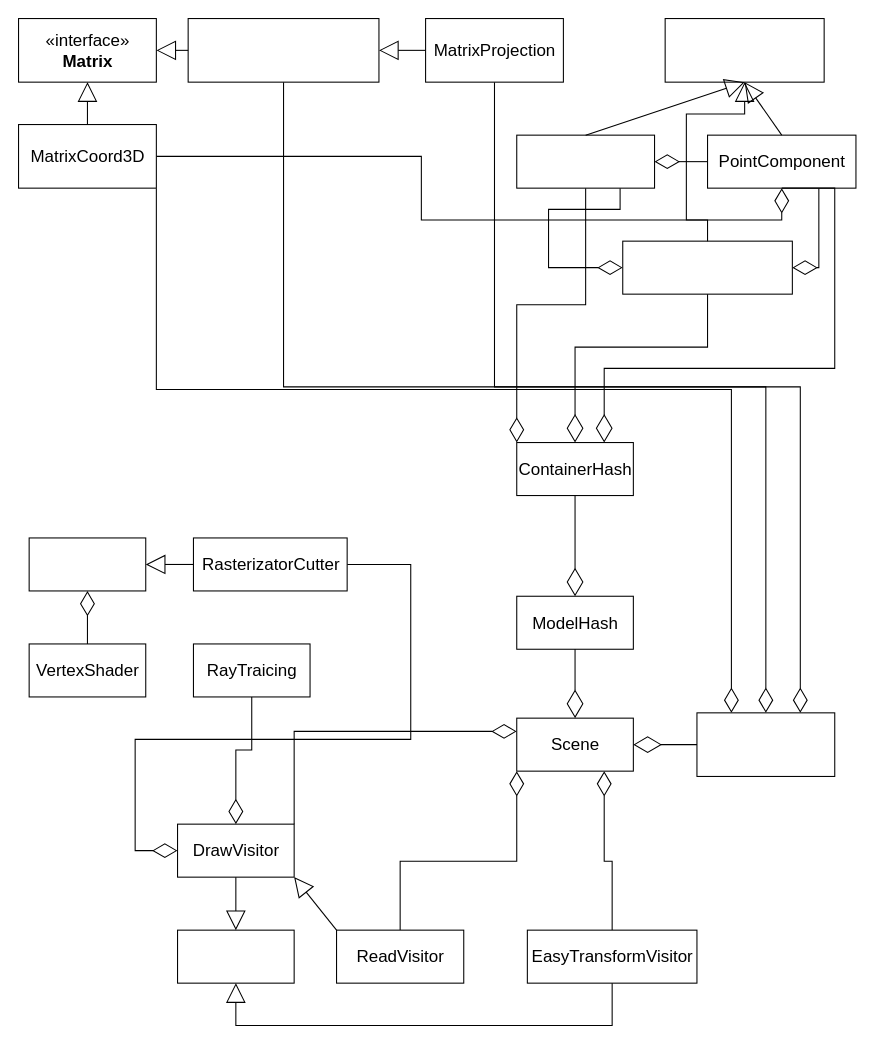
This 881x1063 diagram has some shape labels left out. The shapes that lost their labels are listed below. From the top down, each one's centre as x and y in pixels, then its label:
the point at 283,49: MatrixTransformation3D
the point at 744,49: «interface» ModelComponents
the point at 585,161: LineComponent
the point at 707,267: PolygonComponent
the point at 87,564: «interface» Rasterizator
the point at 765,744: Camera
the point at 235,956: «interface» IVisitor
